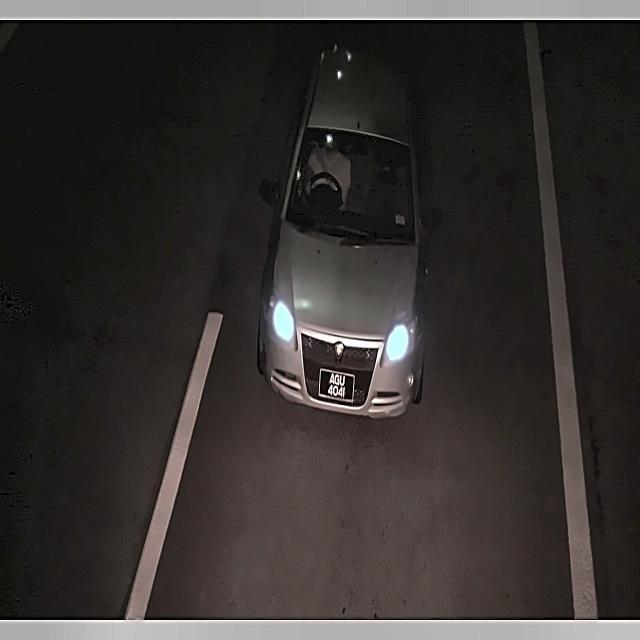car: (314, 362, 358, 404)
